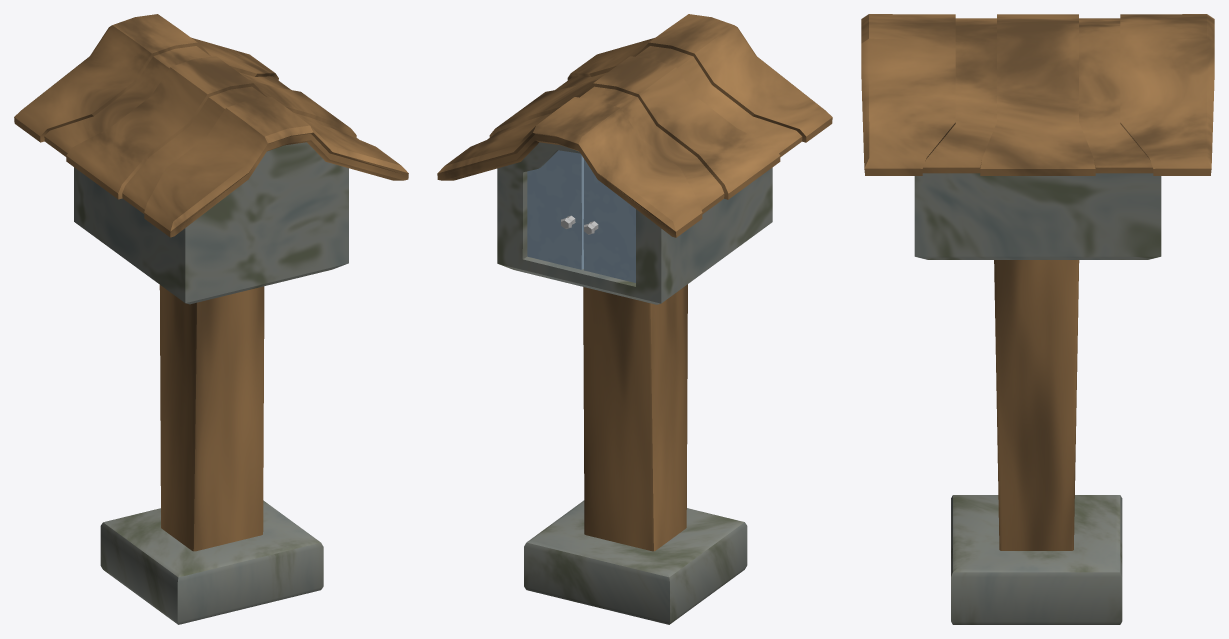
Rendered from Mailbox.fbx.
3 views of the same model, side by side, from view 1: azimuth 30°, elevation 25°; view 2: azimuth 150°, elevation 25°; view 3: azimuth 270°, elevation 25° (orthographic). The views are drawn at different scales.
Parts seen in each view (by area): view 1: MailBox; view 2: MailBox; view 3: MailBox.
Boxes of the visible parts, left/top/right/bottom form: MailBox: left=14, top=14, right=408, bottom=624; MailBox: left=437, top=14, right=832, bottom=624; MailBox: left=861, top=14, right=1214, bottom=624.
Bounding box in the file's own units: 0.4912 × 0.5678 × 0.9999.
